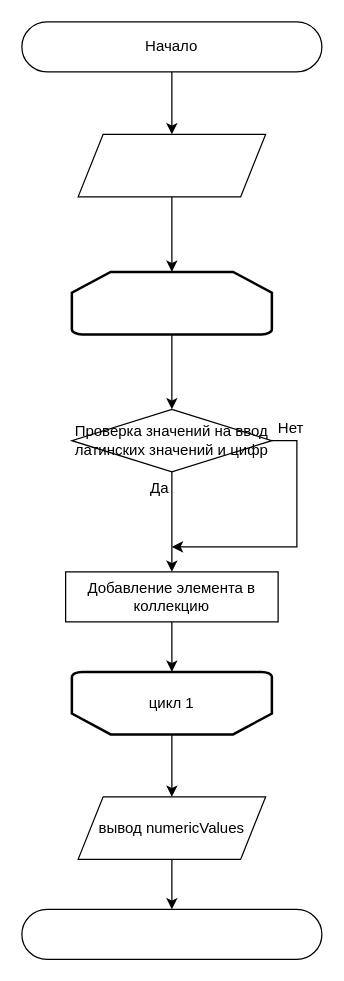
This 344x981 diagram has some shape labels left out. Each missing label, with the centre of its shape:
"Ввод input" goes at (x=171, y=165).
"Конец" goes at (x=171, y=933).
"цикл 1 char c in input" goes at (x=171, y=302).
